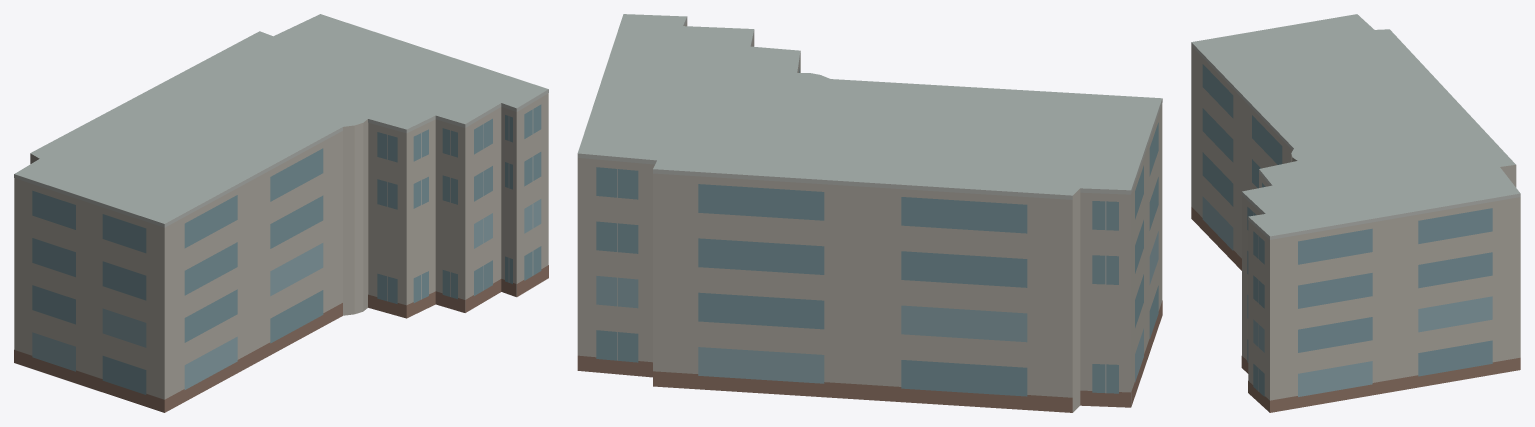
The model's file is survey-upis-32850424.glb.
3 renders of one model, left to right at view 1: azimuth 30°, elevation 25°; view 2: azimuth 150°, elevation 25°; view 3: azimuth 270°, elevation 25°, orthographic. The views are drawn at different scales.
Visible parts, largest first — view 1: survey-upis-32850424.tmp; view 2: survey-upis-32850424.tmp; view 3: survey-upis-32850424.tmp.
Boxes of the visible parts, box(x1,y1,x2,y2) form: survey-upis-32850424.tmp: box(14, 14, 548, 412); survey-upis-32850424.tmp: box(577, 14, 1162, 412); survey-upis-32850424.tmp: box(1191, 14, 1520, 412).
Bounding box in the file's own units: 32.99 × 12.2 × 20.64.
